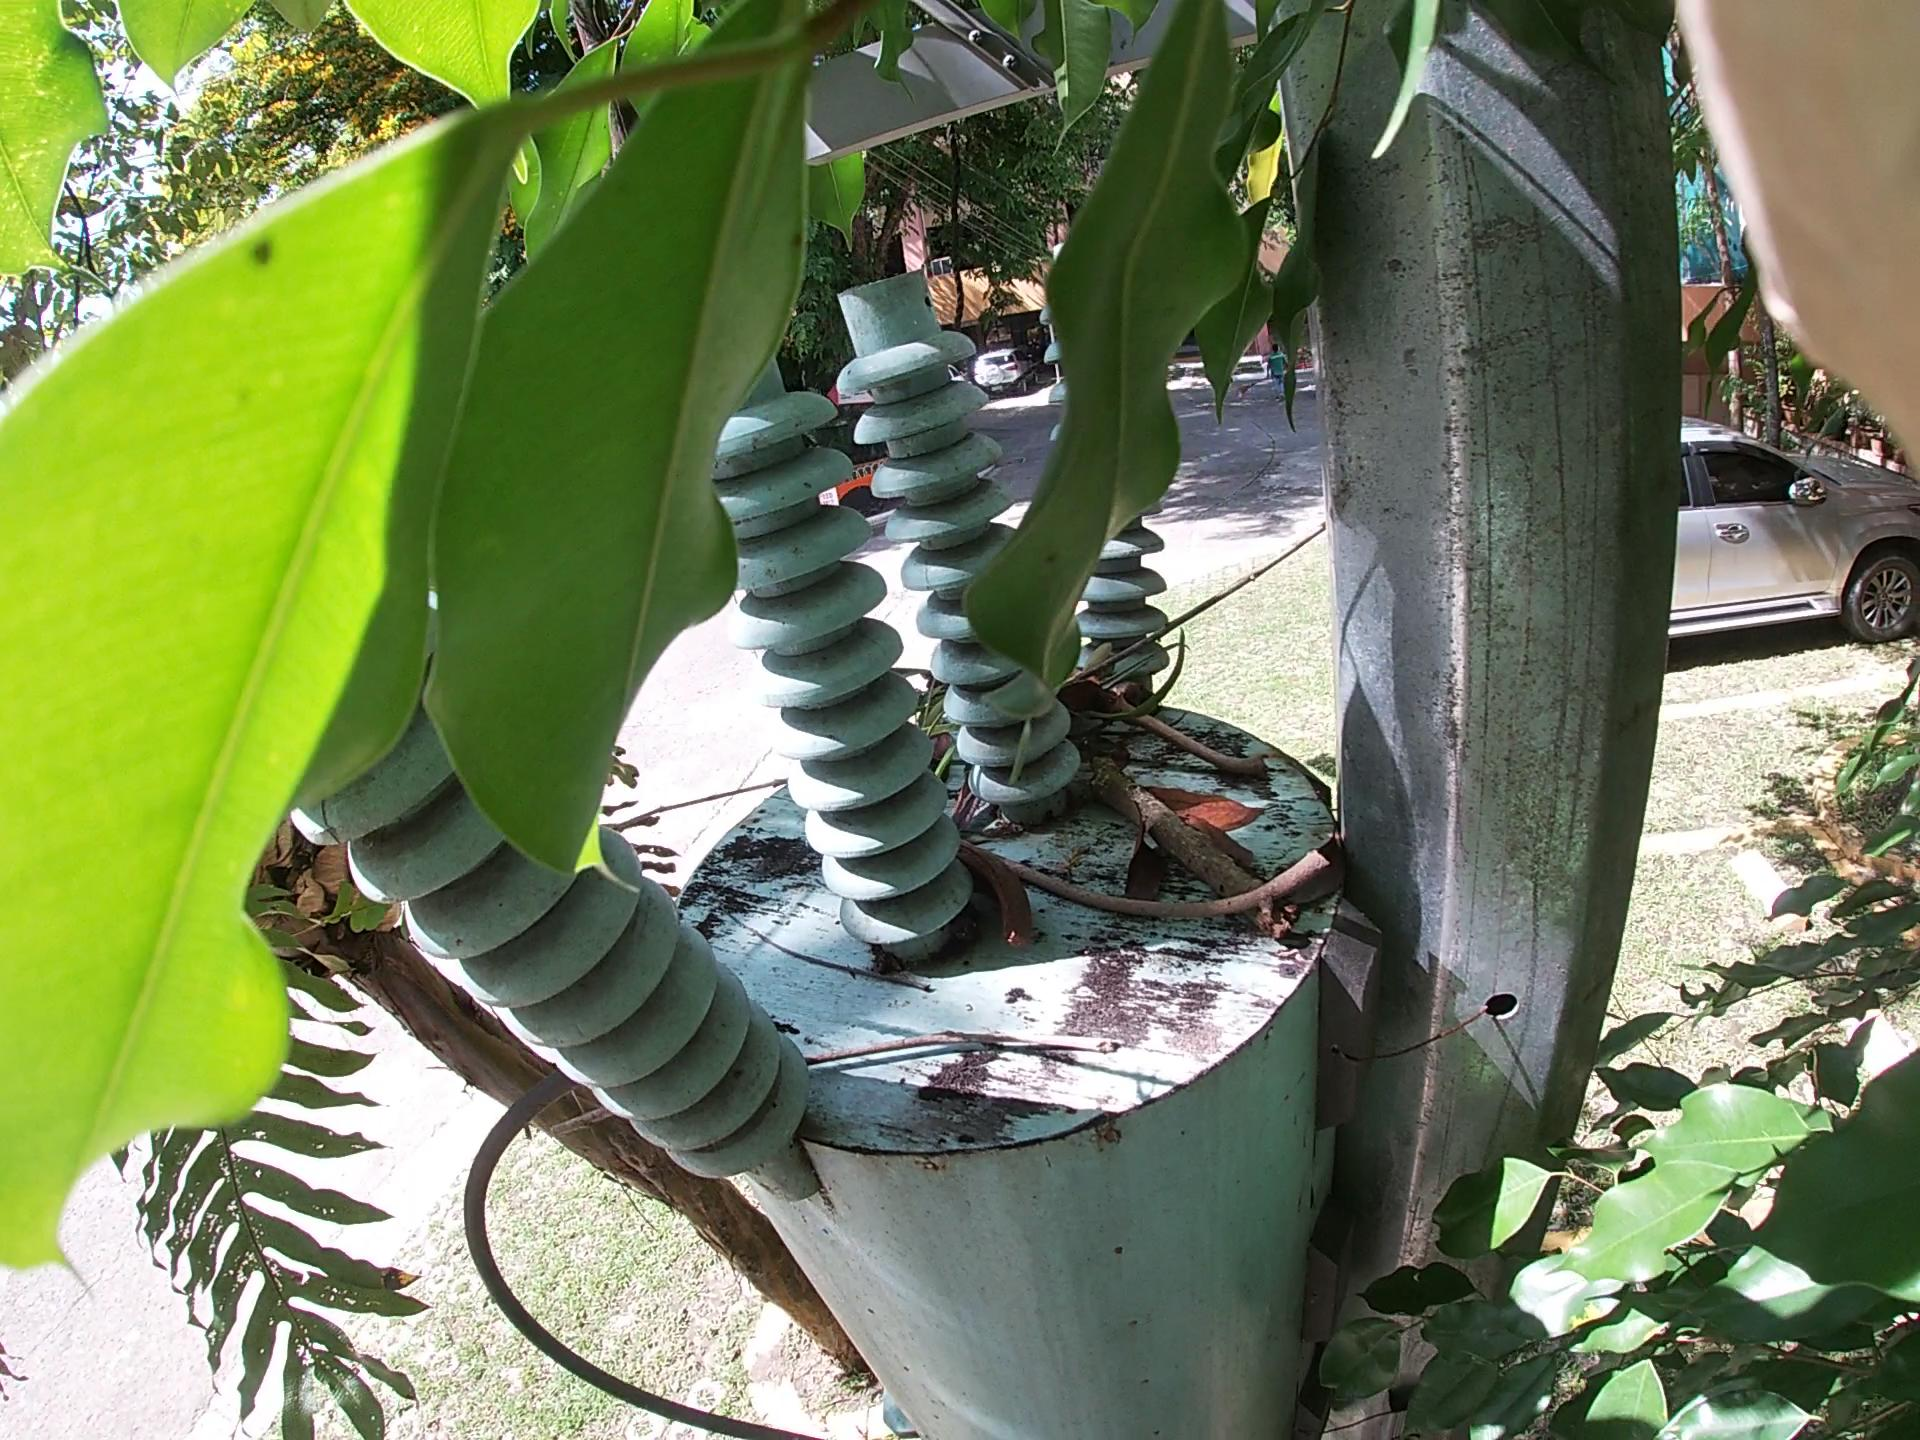branch with leaves: (1070, 731, 1350, 1038)
leaf: (1138, 787, 1268, 933)
tree branch: (1028, 424, 1522, 782), (983, 793, 1401, 1000), (813, 1033, 1128, 1204)
